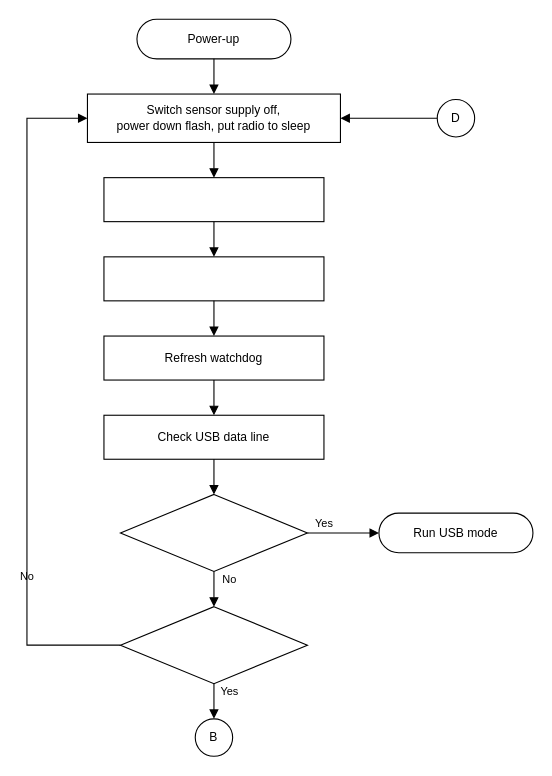
This 552x776 diagram has some shape labels left out. The box of each missing label's shape, as (x1, y1, x2, y2) in pixels:
Cycle due?: (119, 606, 307, 684)
Enter Stop 2: (103, 177, 324, 222)
PC connected?: (119, 493, 307, 571)
Wake on RTC timer: (103, 256, 324, 301)
